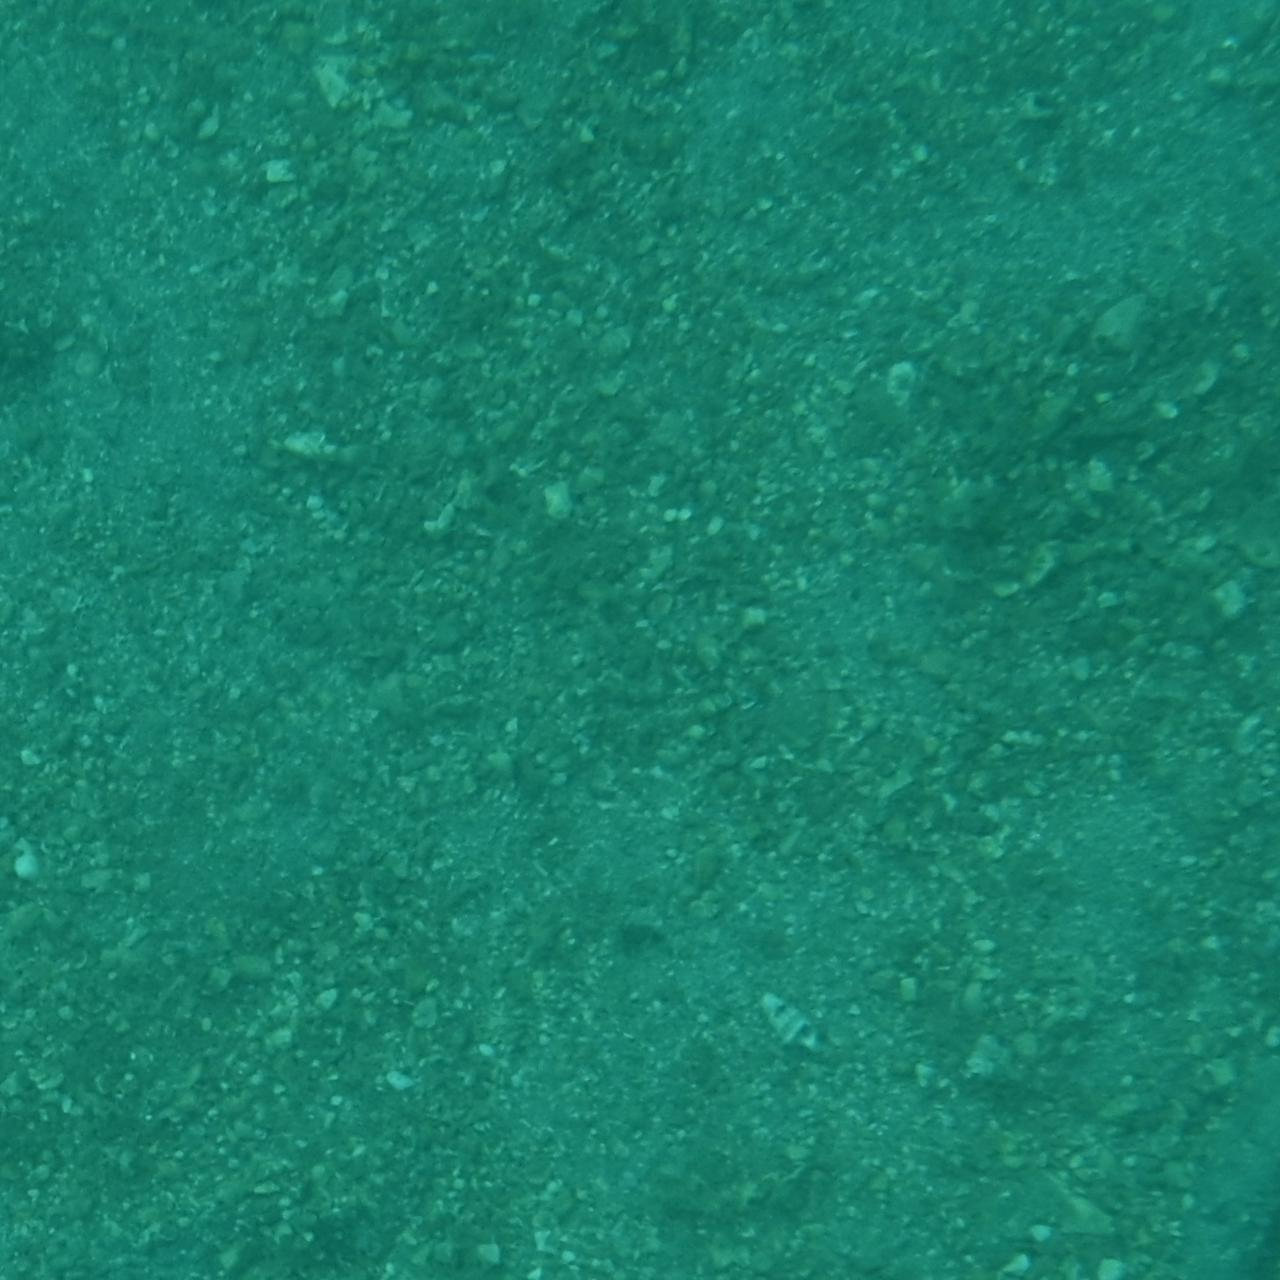Holothuria tubulosa: (427, 1091, 753, 1280), (0, 75, 238, 245), (0, 284, 200, 438), (1126, 1090, 1280, 1280), (0, 111, 91, 429), (1164, 1049, 1280, 1280), (0, 0, 165, 157), (0, 1182, 231, 1280), (0, 1183, 217, 1280), (1224, 1067, 1280, 1280)
